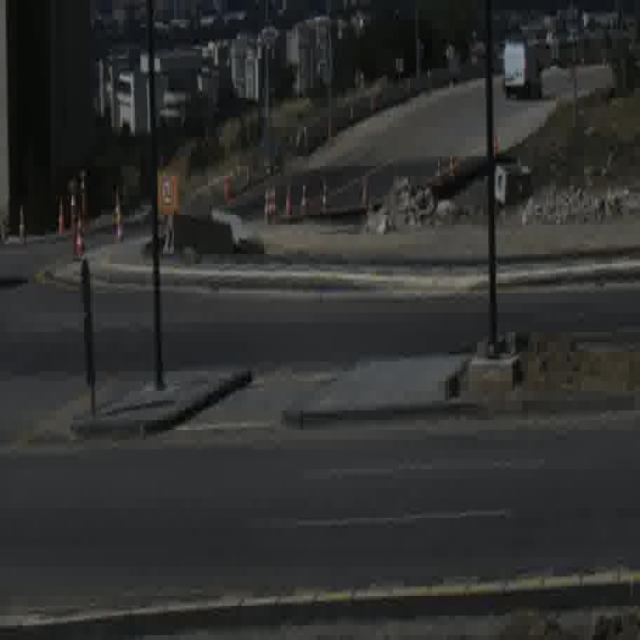Car: (502, 41, 544, 101)
